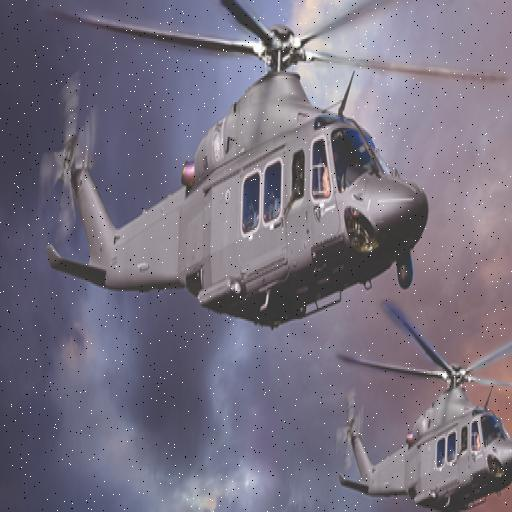helicopter: (29, 1, 512, 331), (331, 290, 512, 512)
